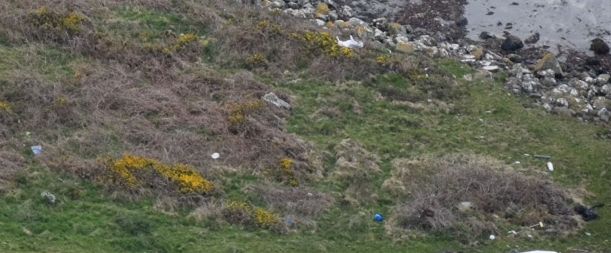white_in_green: (252, 76, 303, 125), (526, 143, 571, 189), (359, 195, 403, 239), (188, 132, 234, 174), (12, 128, 58, 170), (469, 213, 510, 253)
